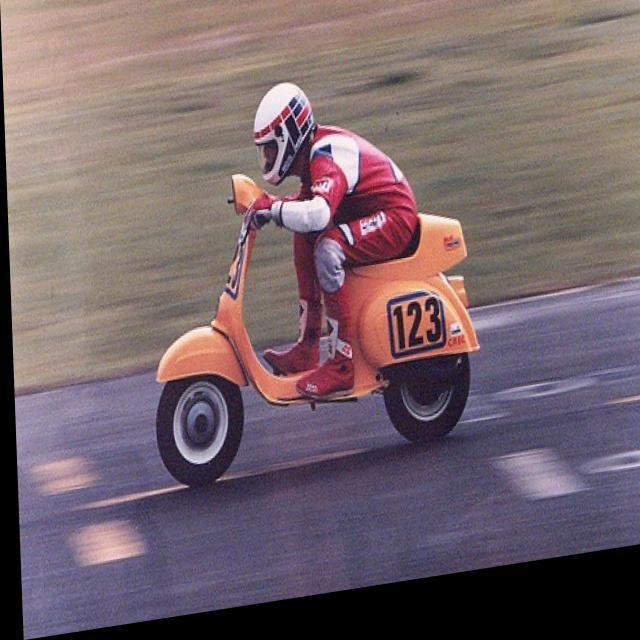Helmet: (246, 78, 326, 192)
